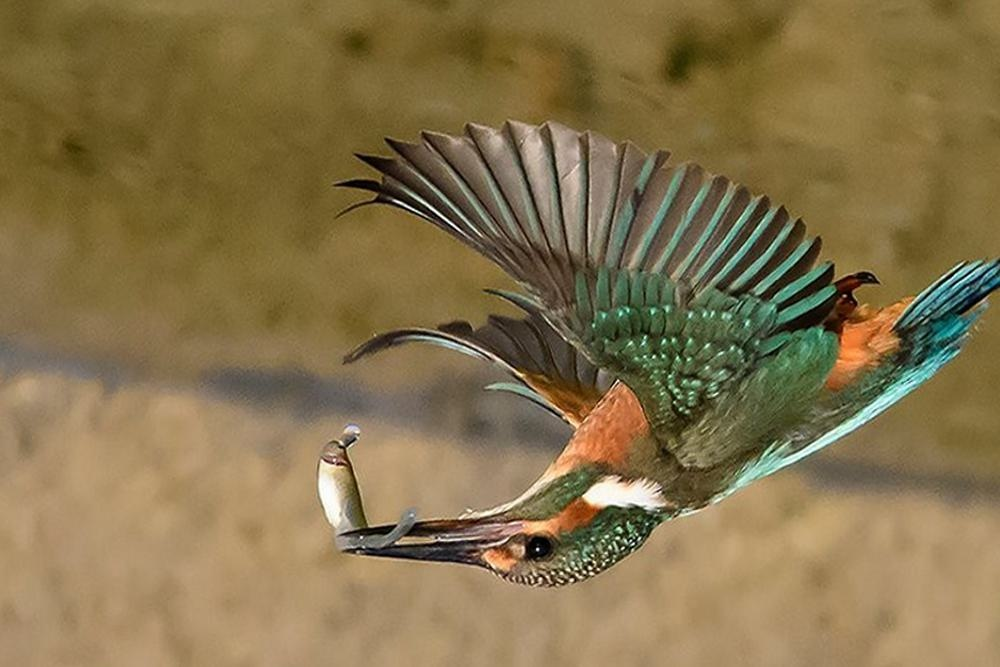kingfisher: (291, 111, 986, 613)
